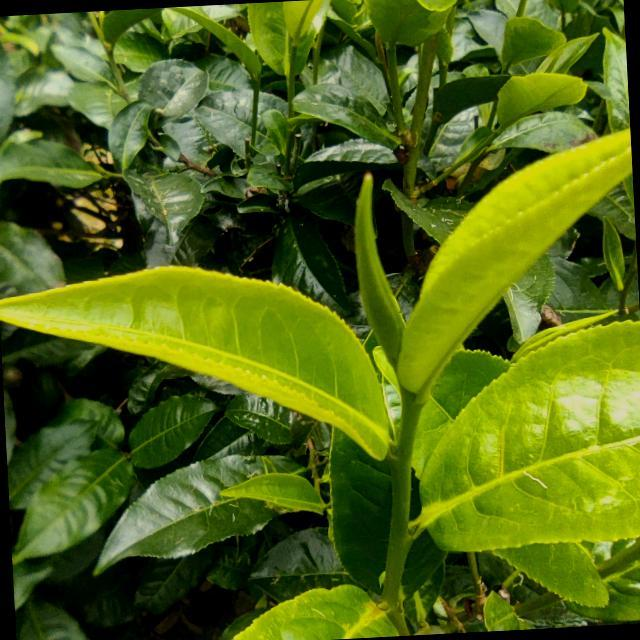Stem: (403, 402, 421, 422)
